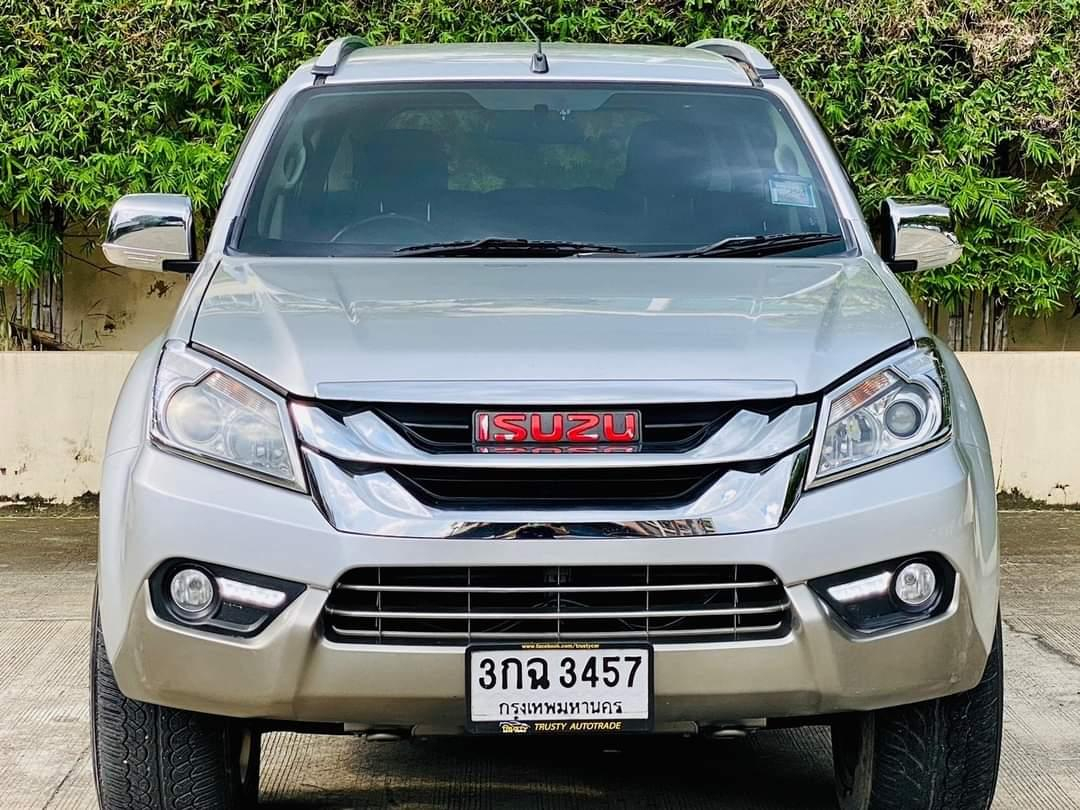license-plate: (463, 639, 656, 734)
